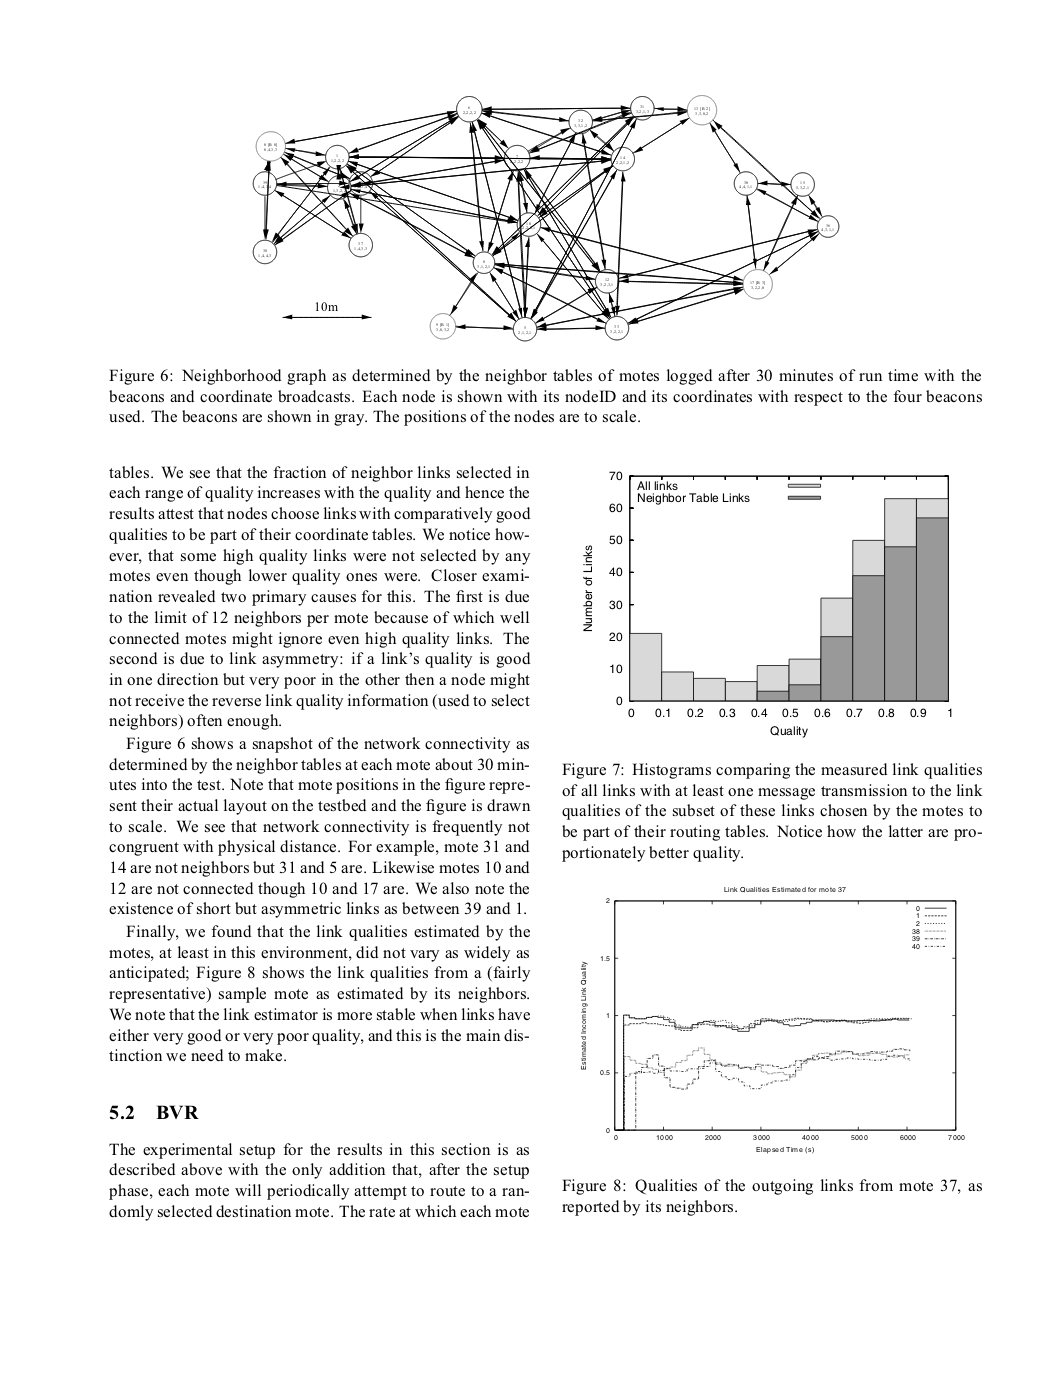figure: (252, 94, 839, 342), (580, 898, 964, 1153), (583, 471, 951, 737)
